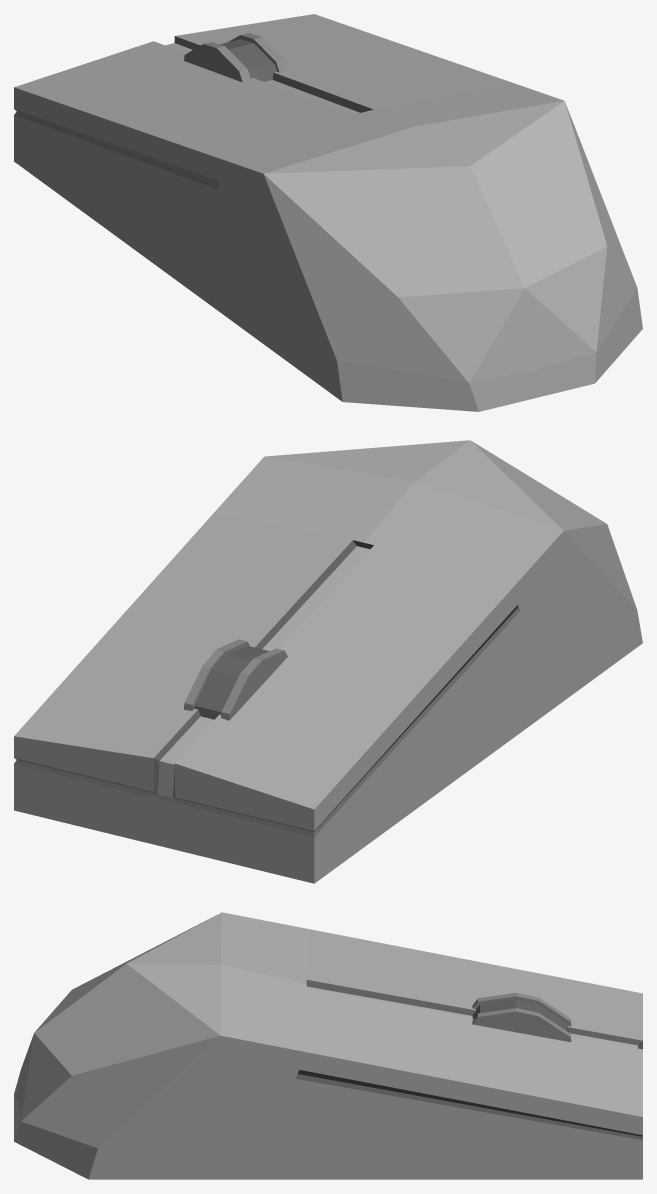
Rendered from MouseV2White.fbx.
3 views of the same model, one above another, from view 1: azimuth 30°, elevation 25°; view 2: azimuth 150°, elevation 25°; view 3: azimuth 270°, elevation 25° (orthographic). The views are drawn at different scales.
Parts seen in each view (by area): view 1: MouseV2White; view 2: MouseV2White; view 3: MouseV2White.
Part boxes in pixels (box(x1,y1,x2,y2)): MouseV2White: box(14, 14, 642, 411); MouseV2White: box(14, 440, 642, 883); MouseV2White: box(14, 912, 642, 1179).
Size of the model in its own units: 3.64 by 2.12 by 7.82.
